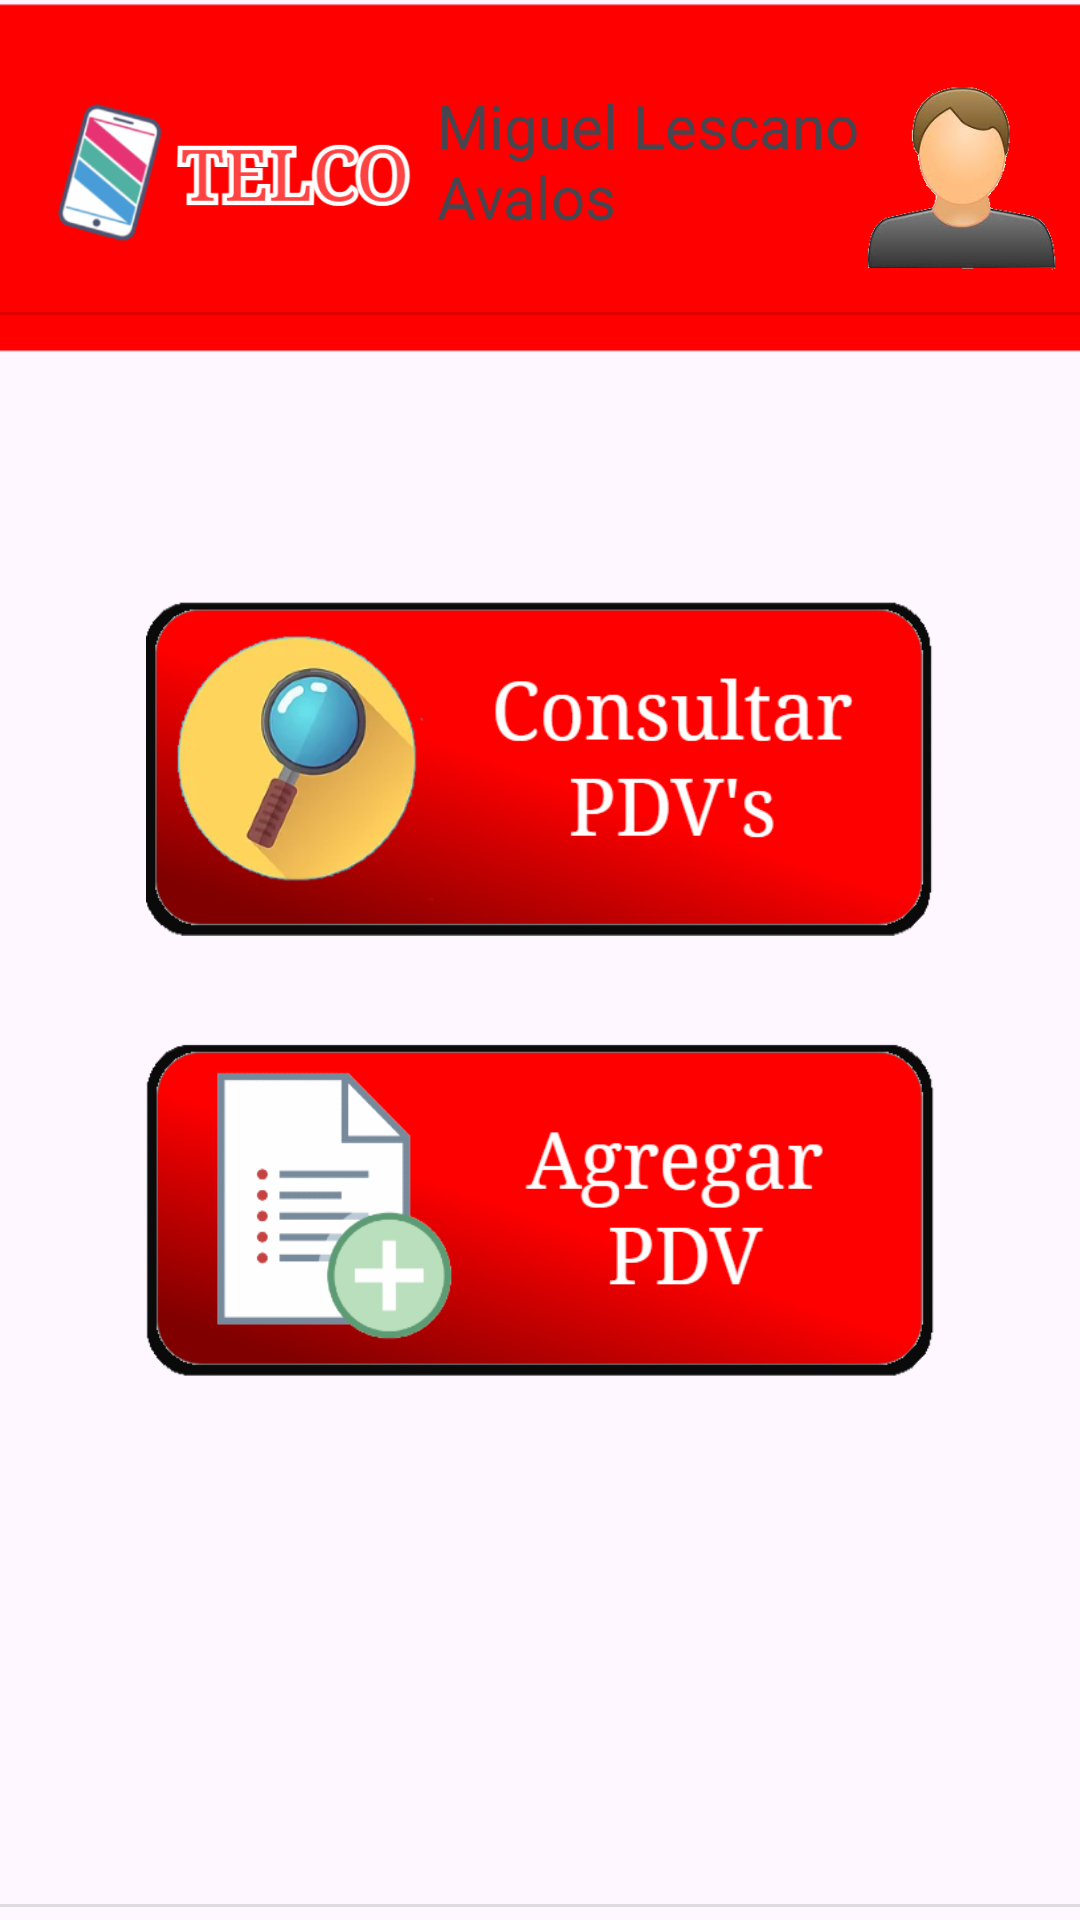

Point at icon controls on the screen. Image size 1080w x 1920h, points as [x,y].
usericon: [962,178]
